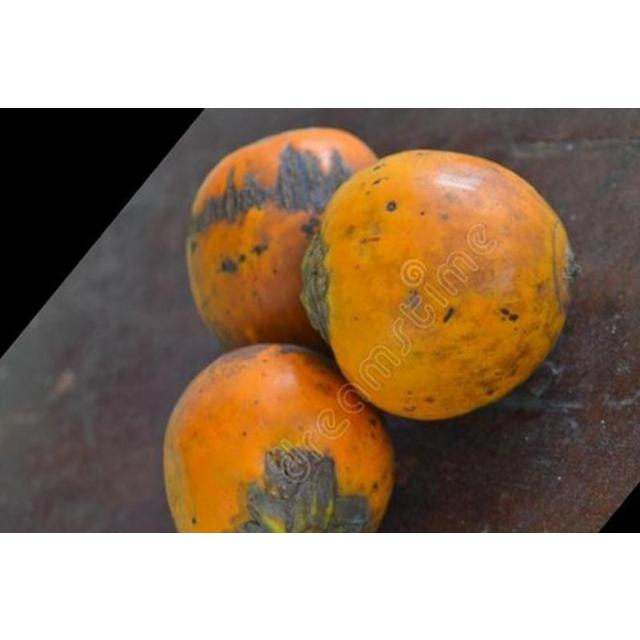good: (302, 149, 573, 422), (161, 343, 396, 532), (184, 126, 378, 353)
